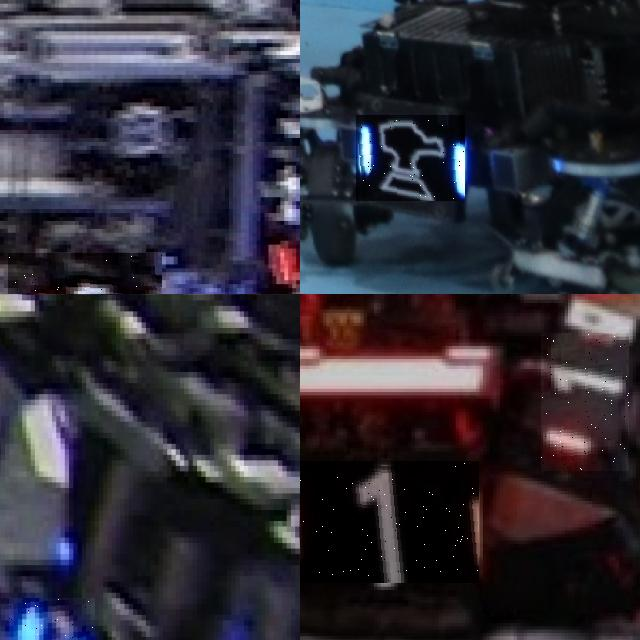B2: (9, 598, 94, 640)
Bs: (356, 115, 465, 201)
R1: (300, 461, 479, 583), (541, 333, 629, 471)
R2: (8, 252, 162, 294)
